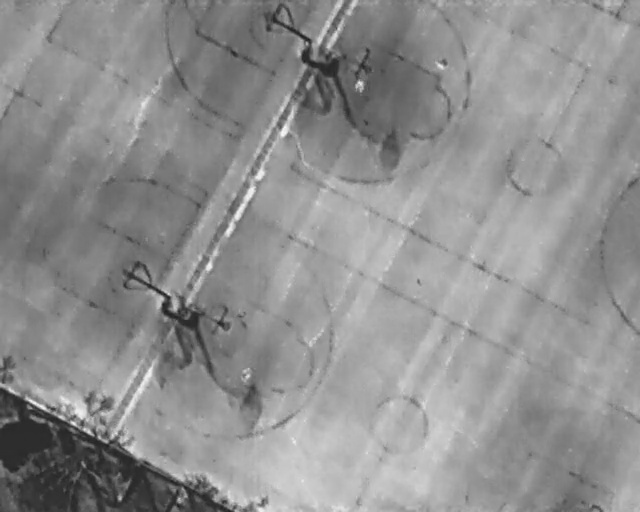Person: (242, 366, 252, 384), (355, 76, 363, 96), (436, 56, 448, 69)
